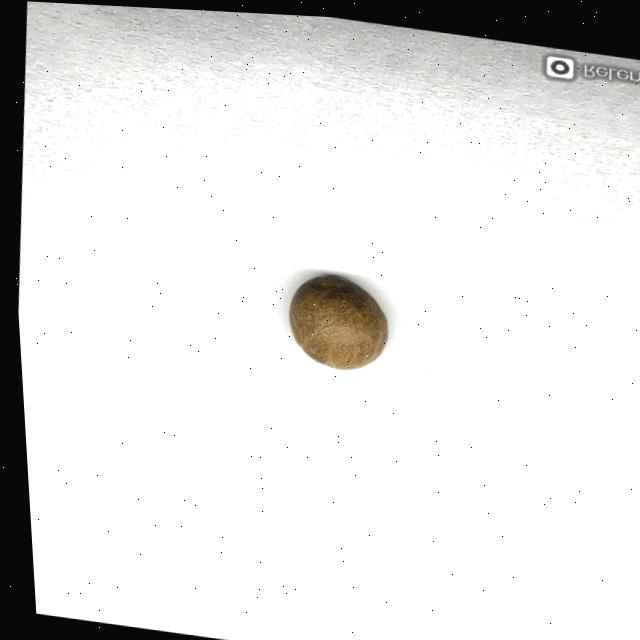Quaker: (281, 267, 386, 373)
